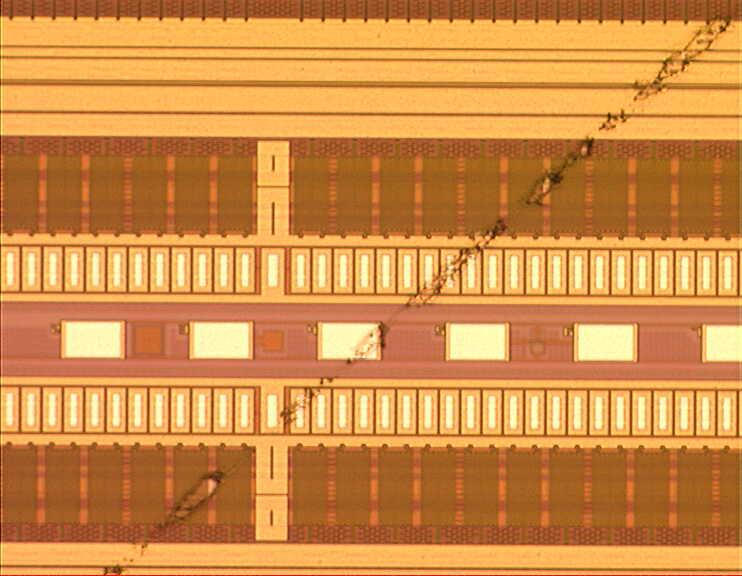SCRATCH: (101, 2, 742, 576)
